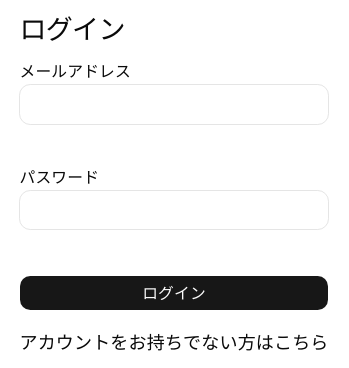
Test: LoginPage › shows validation error when email is empty and form submitted
The image size is (349, 368).
What coordinates should you click on to do the following:
click the button "ログイン"
I would click on:
 (174, 293)
Its box is [20,275,329,311].
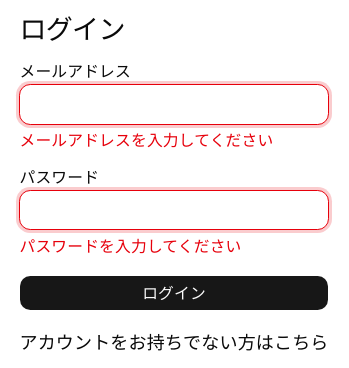
Result: the text "メールアドレスを入力してください" is shown at [20,129,273,151]
